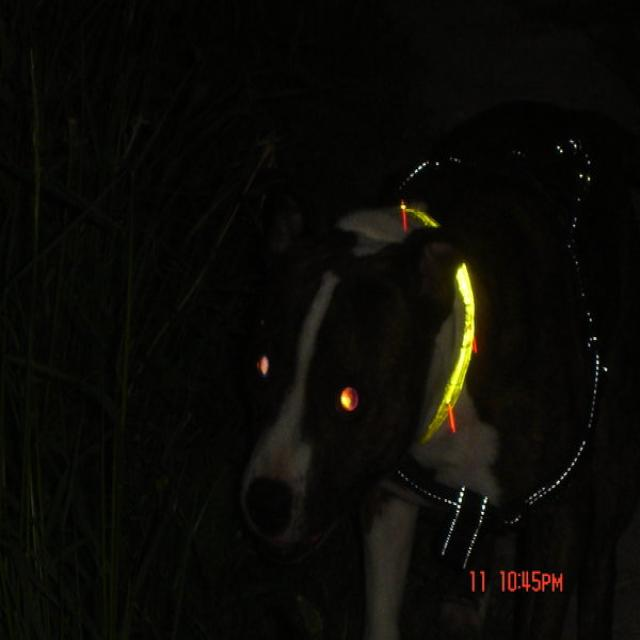Dog: (138, 154, 602, 639)
